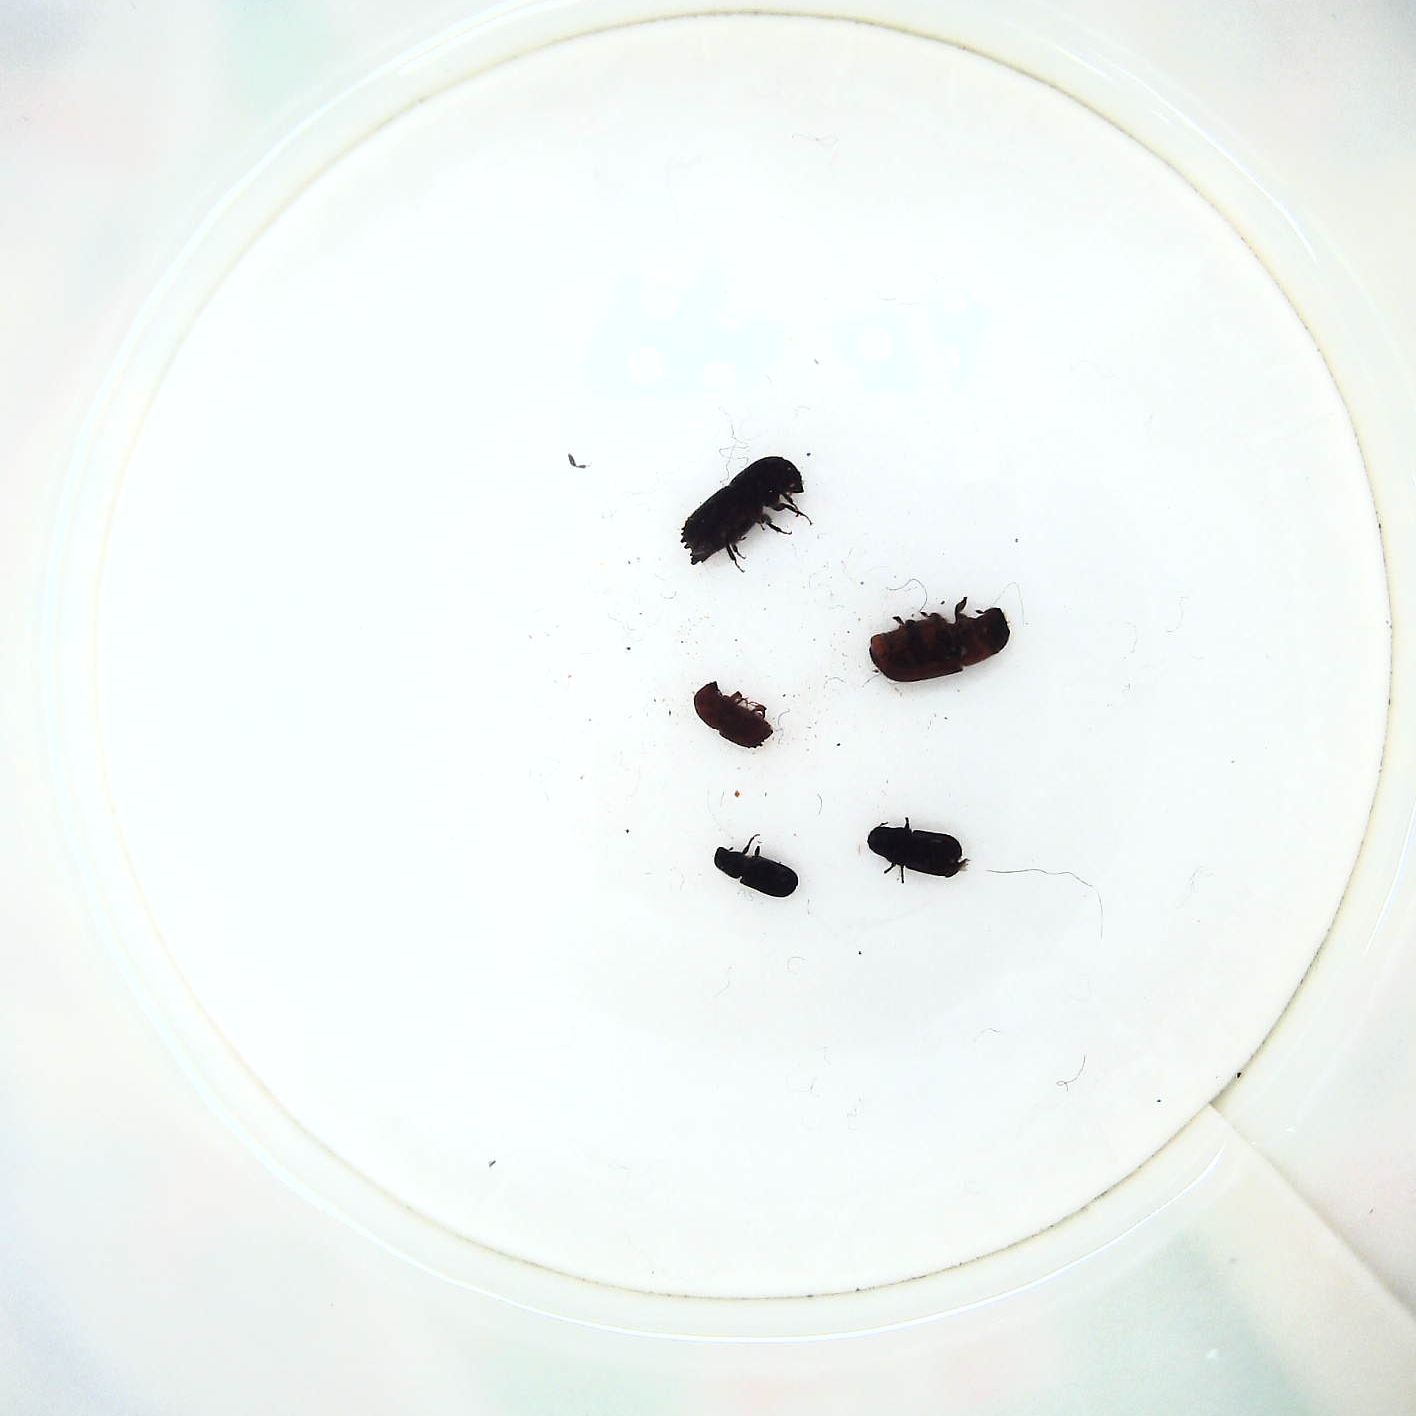Boerner: (679, 447, 805, 576)
Leconte: (864, 593, 1018, 690)
armandi: (862, 820, 969, 883)
coleoptera: (708, 840, 797, 901)
linnaeus: (689, 676, 774, 753)
